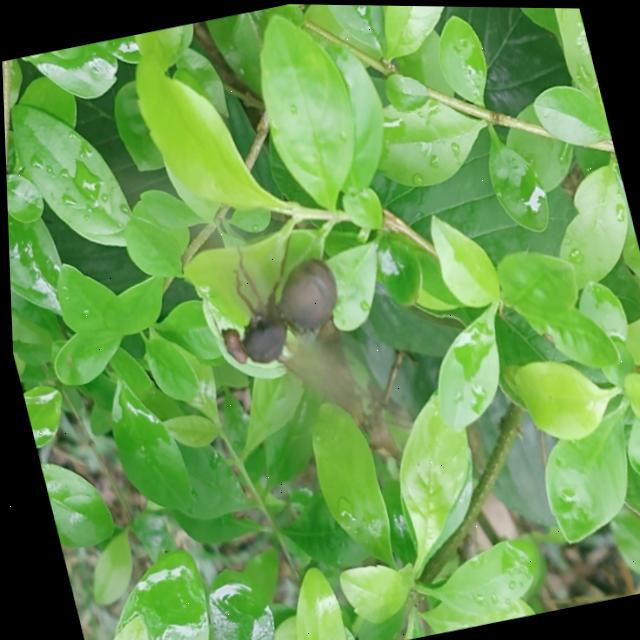Alive-Female-Alate: (197, 215, 413, 475)
